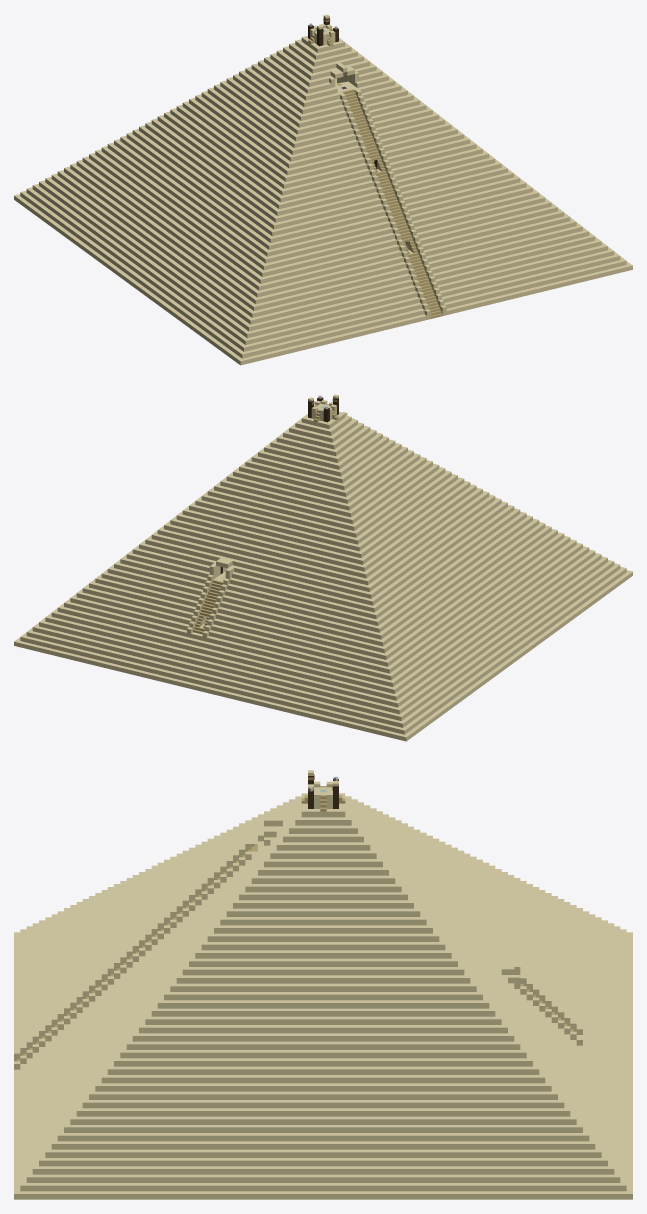
File: minecraft.obj
3 renders of one model, top to bottom at view 1: azimuth 30°, elevation 25°; view 2: azimuth 150°, elevation 25°; view 3: azimuth 270°, elevation 25°, orthographic. The views are drawn at different scales.
Bounding box in the file's own units: 99 × 51.5 × 99.
